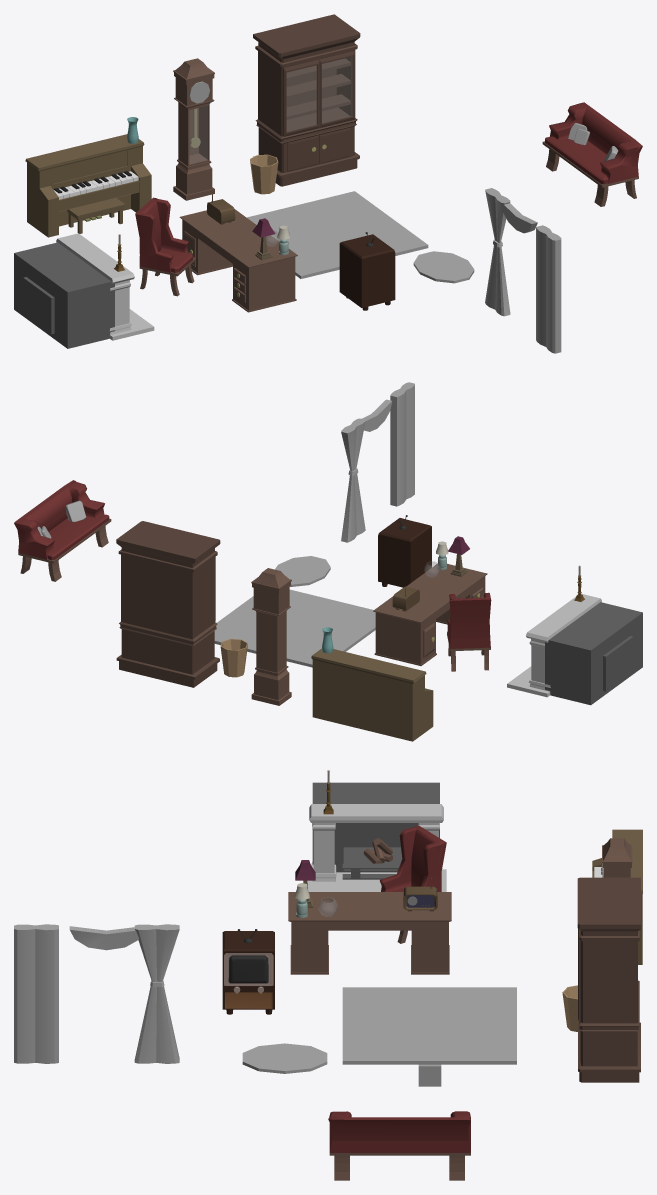
Rendered from Mansion Assets.fbx.
3 renders of one model, top to bottom at view 1: azimuth 30°, elevation 25°; view 2: azimuth 150°, elevation 25°; view 3: azimuth 270°, elevation 25°, orthographic. The views are drawn at different scales.
Visible parts, largest first — view 1: Cabinet8, pCube24, pCube79, pCube90, polySurface4, pCube86, Grandfather_clock, pCylinder25, pCube18, pCube94, pCube35, pCube34 (+8 smaller); view 2: Cabinet8, pCube24, pCube79, pCube90, polySurface4, pCube86, Grandfather_clock, pCylinder25, pCube94, pCube18, pCube97, pCylinder34 (+3 smaller); view 3: pCube90, Cabinet8, pCube24, polySurface4, pCube86, pCube94, pCylinder25, pCube97, pCube18, pCylinder34, pCube79, pCylinder36 (+5 smaller).
Boxes of the visible parts, x1=… form: Cabinet8: x1=253, y1=14, x2=360, y2=186; pCube24: x1=14, y1=233, x2=154, y2=348; pCube79: x1=25, y1=134, x2=151, y2=237; pCube90: x1=247, y1=191, x2=428, y2=278; polySurface4: x1=179, y1=209, x2=297, y2=312; pCube86: x1=542, y1=102, x2=642, y2=206; Grandfather_clock: x1=173, y1=58, x2=214, y2=200; pCylinder25: x1=339, y1=232, x2=395, y2=310; pCube18: x1=135, y1=197, x2=195, y2=296; pCube94: x1=536, y1=225, x2=561, y2=353; pCube35: x1=283, y1=60, x2=319, y2=136; pCube34: x1=319, y1=51, x2=354, y2=127; Cabinet8: x1=116, y1=521, x2=220, y2=687; pCube24: x1=507, y1=593, x2=642, y2=705; pCube79: x1=311, y1=648, x2=433, y2=741; pCube90: x1=214, y1=589, x2=375, y2=667; polySurface4: x1=373, y1=563, x2=487, y2=665; pCube86: x1=14, y1=480, x2=111, y2=581; Grandfather_clock: x1=251, y1=568, x2=291, y2=705; pCylinder25: x1=378, y1=515, x2=431, y2=587; pCube94: x1=390, y1=382, x2=414, y2=506; pCube18: x1=447, y1=592, x2=491, y2=671; pCube97: x1=341, y1=418, x2=365, y2=542; pCylinder34: x1=275, y1=556, x2=330, y2=586; pCube90: x1=342, y1=987, x2=516, y2=1064; Cabinet8: x1=577, y1=877, x2=640, y2=1082; pCube24: x1=307, y1=782, x2=446, y2=891; polySurface4: x1=288, y1=892, x2=451, y2=974; pCube86: x1=328, y1=1111, x2=470, y2=1180; pCube94: x1=14, y1=924, x2=58, y2=1063; pCylinder25: x1=222, y1=929, x2=274, y2=1014; pCube97: x1=134, y1=924, x2=179, y2=1063; pCube18: x1=380, y1=825, x2=446, y2=943; pCylinder34: x1=242, y1=1043, x2=327, y2=1073; pCube79: x1=592, y1=829, x2=642, y2=964; pCylinder36: x1=69, y1=926, x2=138, y2=950.
Size of the model in its own units: 35.46 by 8.83 by 27.83.
